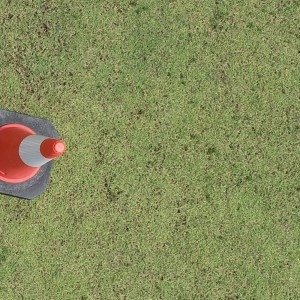traffic cone: (1, 109, 65, 200)
